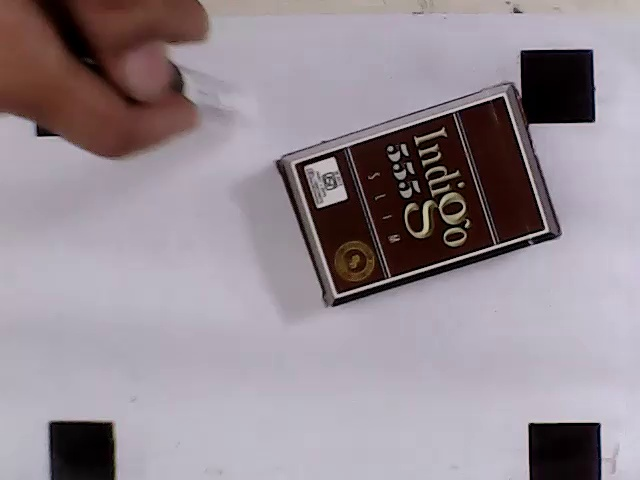BEX: (294, 96, 547, 296)
